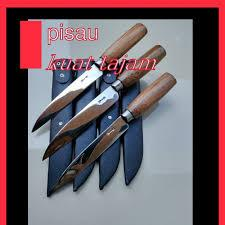knives: (22, 58, 181, 185)
